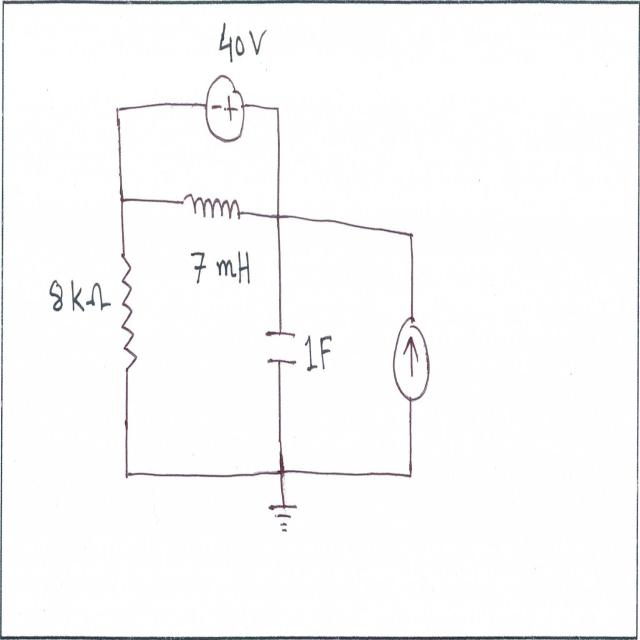capacitor: (266, 324, 298, 376)
current_source: (389, 308, 437, 416)
ground: (268, 499, 300, 549)
inductor: (175, 183, 245, 225)
resistor: (116, 248, 141, 376)
voltage_source: (203, 71, 247, 151)
